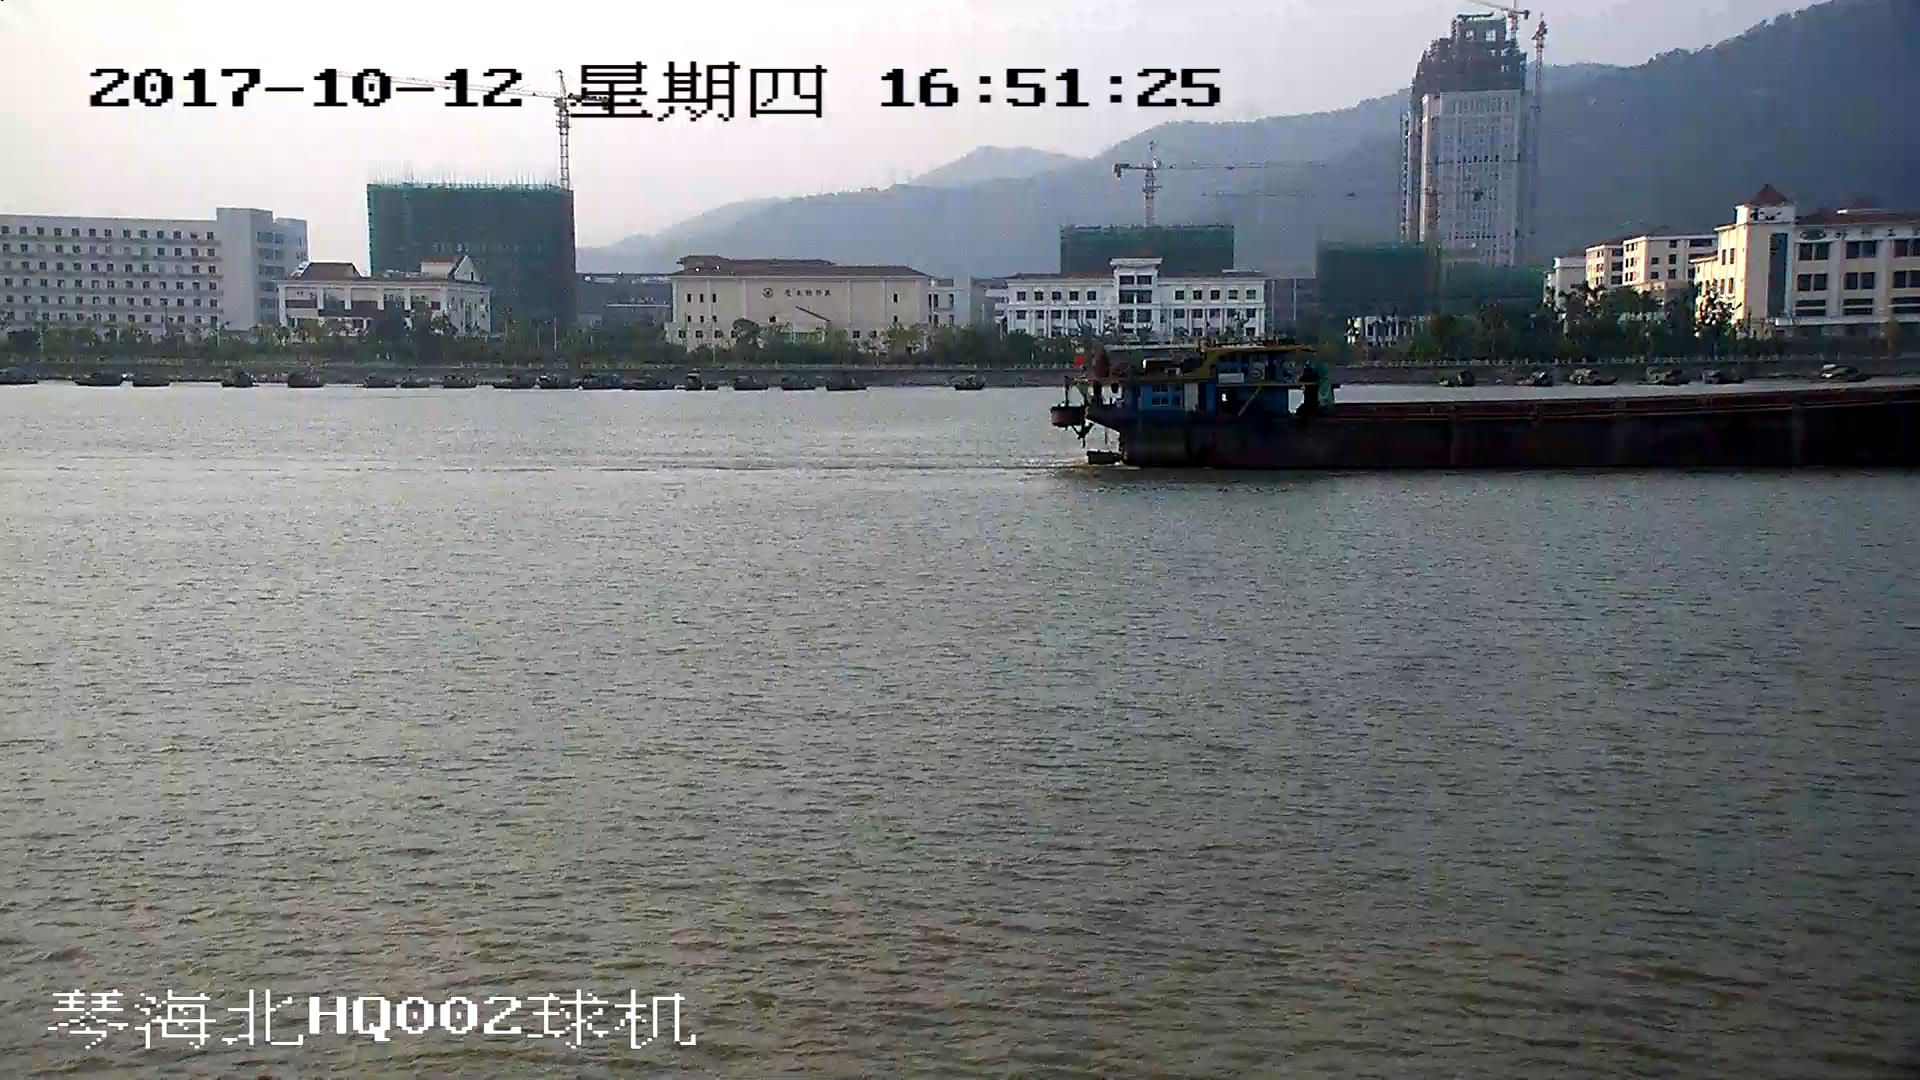bulk cargo carrier: (1052, 347, 1920, 471)
